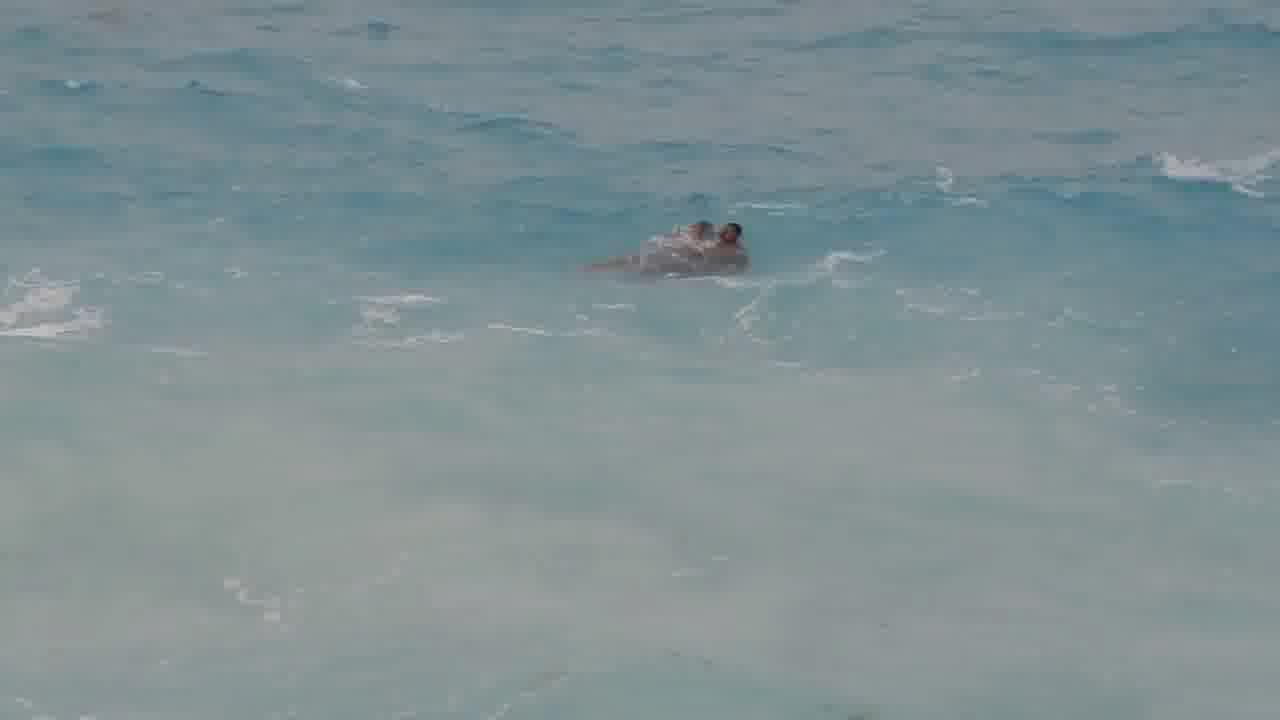human: (679, 210, 709, 241), (714, 215, 737, 249)
